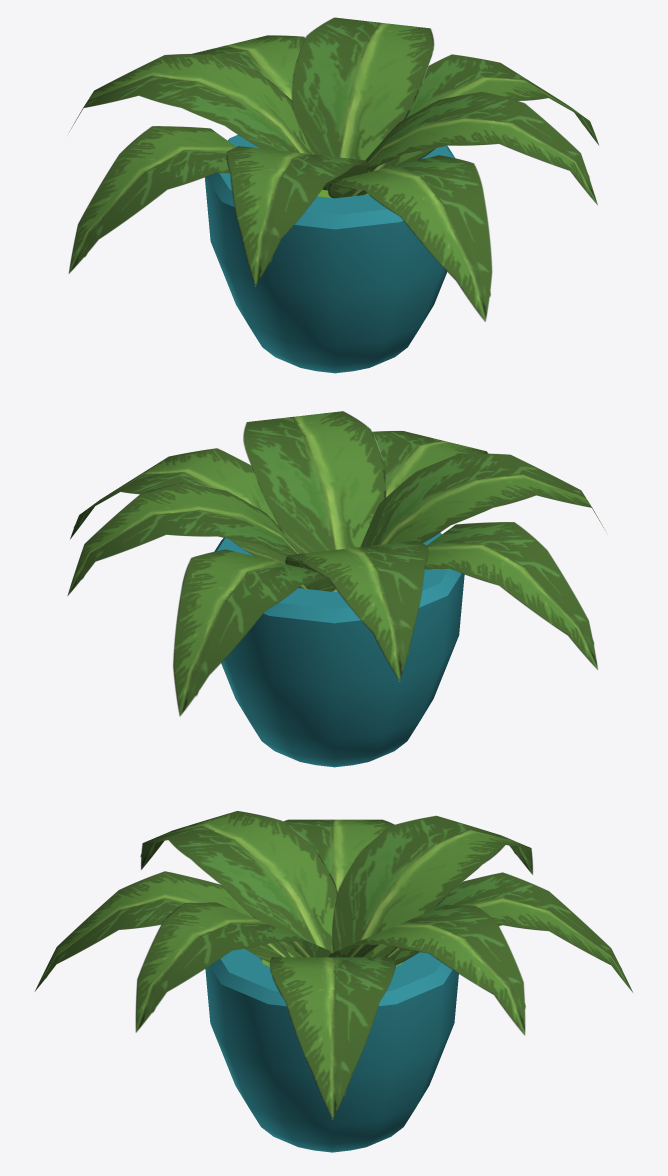
File: plant_4.glb
3 renders of one model, top to bottom at view 1: azimuth 30°, elevation 25°; view 2: azimuth 150°, elevation 25°; view 3: azimuth 270°, elevation 25°, orthographic. The views are drawn at different scales.
Visible parts, largest first — view 1: Plant 4; view 2: Plant 4; view 3: Plant 4.
Part boxes in pixels (x1=…): Plant 4: x1=68, y1=17, x2=598, y2=373; Plant 4: x1=67, y1=411, x2=605, y2=767; Plant 4: x1=34, y1=811, x2=632, y2=1152.
Bounding box in the file's own units: 0.8786 × 0.3833 × 0.8786.
Materials: 2 (2 with a texture image).
